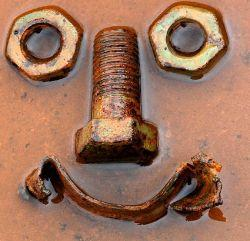metal: (23, 145, 224, 226), (146, 0, 231, 81), (4, 5, 83, 83), (90, 25, 143, 128)
